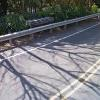Tree: (3, 8, 27, 38)
